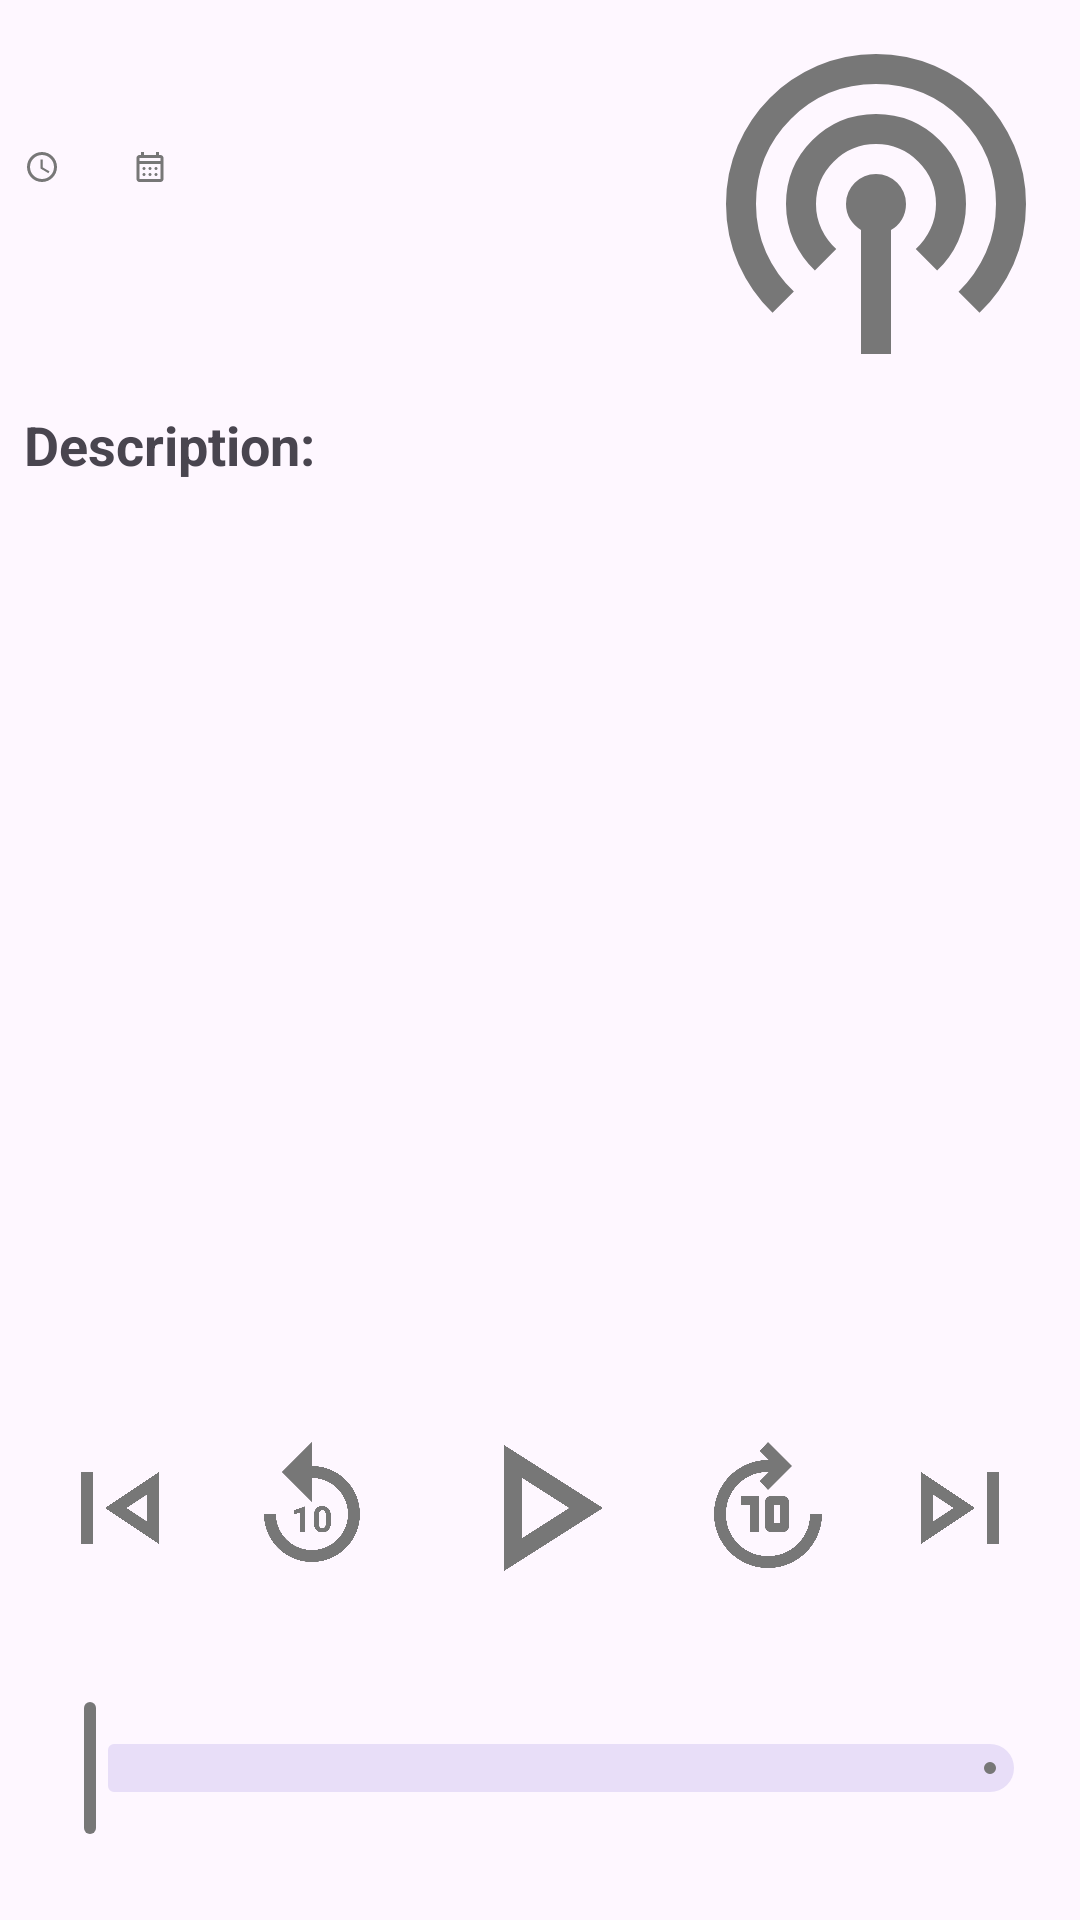

Icon bounding boxes for this 1080 x 1920 phone screenshot, format (x1, y1, x2, y2):
calendar month: (136, 152, 164, 182)
forward: (714, 1442, 822, 1568)
Play/Pause: (504, 1445, 602, 1571)
replay: (264, 1442, 360, 1562)
skip next: (921, 1472, 999, 1544)
skip previous: (81, 1472, 159, 1544)
time: (27, 152, 57, 182)
